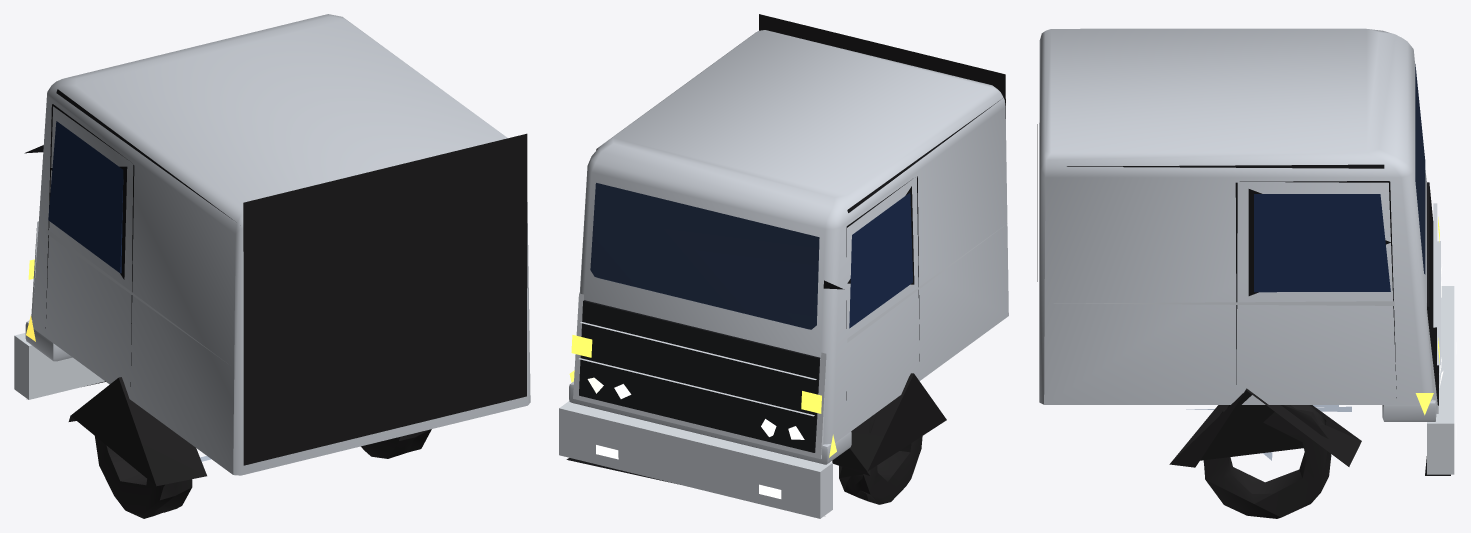
The model's file is cab_flat_quad_lod2.glb.
3 views of the same model, side by side, from view 1: azimuth 30°, elevation 25°; view 2: azimuth 150°, elevation 25°; view 3: azimuth 270°, elevation 25° (orthographic). The views are drawn at different scales.
Parts seen in each view (by area): view 1: lod2_paint_white_panel, lod2_plastic_trim, lod2_glass, lod2_rubber_tire, lod2_chrome, lod2_plastic_black; view 2: lod2_paint_white_panel, lod2_vent_slots, lod2_glass_wind, lod2_chrome, lod2_plastic_trim, lod2_glass, lod2_rubber_tire, lod2_plastic_black, lod2_lamp_white, lod2_lamp_amber; view 3: lod2_paint_white_panel, lod2_glass, lod2_plastic_trim, lod2_rubber_tire, lod2_chrome, lod2_plastic_black, lod2_glass_wind, lod2_vent_slots.
Part boxes in pixels (bbox=[...]): lod2_paint_white_panel: bbox=[25, 14, 530, 475]; lod2_plastic_trim: bbox=[68, 133, 527, 486]; lod2_glass: bbox=[48, 121, 123, 273]; lod2_rubber_tire: bbox=[95, 429, 431, 518]; lod2_chrome: bbox=[14, 221, 227, 399]; lod2_plastic_black: bbox=[24, 89, 232, 386]; lod2_paint_white_panel: bbox=[569, 30, 1008, 464]; lod2_vent_slots: bbox=[579, 300, 820, 452]; lod2_glass_wind: bbox=[590, 183, 819, 329]; lod2_chrome: bbox=[559, 226, 1003, 518]; lod2_plastic_trim: bbox=[759, 14, 1005, 475]; lod2_glass: bbox=[849, 192, 912, 328]; lod2_rubber_tire: bbox=[839, 412, 922, 504]; lod2_plastic_black: bbox=[566, 98, 1002, 484]; lod2_lamp_white: bbox=[587, 377, 804, 498]; lod2_lamp_amber: bbox=[569, 335, 836, 457]; lod2_paint_white_panel: bbox=[1039, 28, 1436, 421]; lod2_glass: bbox=[1254, 194, 1390, 292]; lod2_plastic_trim: bbox=[1037, 124, 1361, 467]; lod2_rubber_tire: bbox=[1203, 405, 1331, 518]; lod2_chrome: bbox=[1054, 175, 1454, 474]; lod2_plastic_black: bbox=[1067, 164, 1450, 475]; lod2_glass_wind: bbox=[1415, 64, 1425, 274]; lod2_vent_slots: bbox=[1427, 182, 1438, 405].
Bounding box in the file's own units: 2.59 × 3.2 × 3.22.
11 materials, 5 textured.
